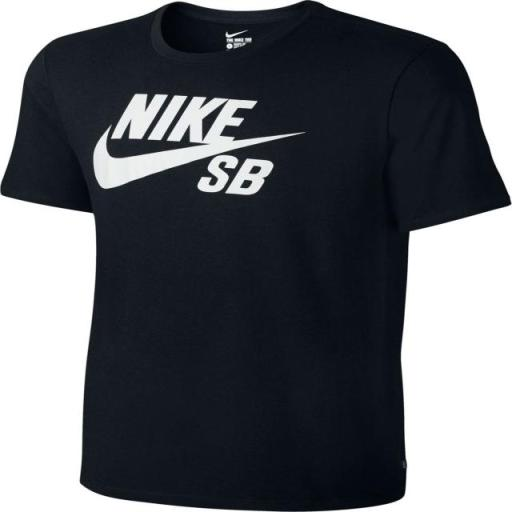Nike: (88, 140, 268, 192), (107, 97, 265, 143)
